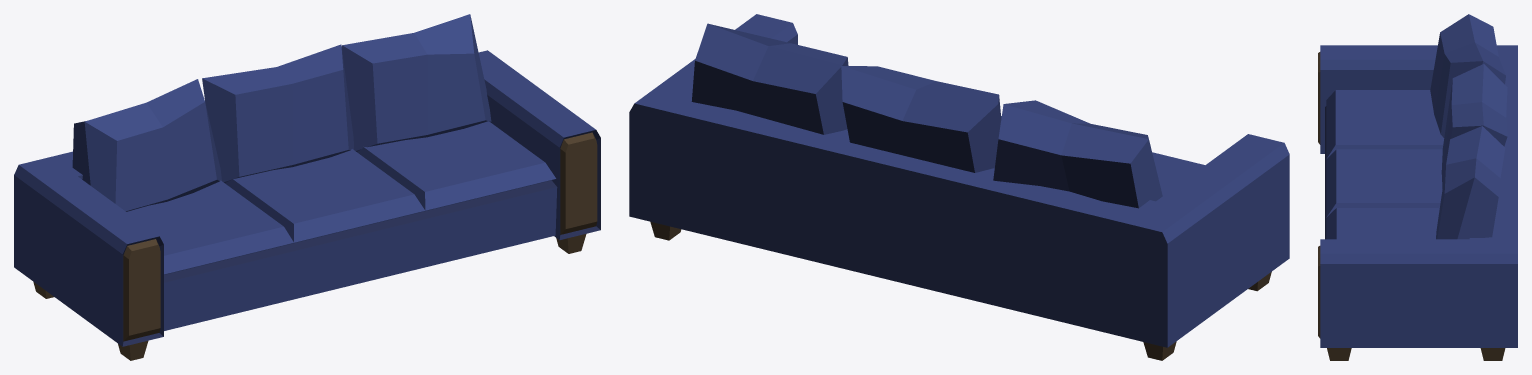
The model's file is Sofa2Blue.glb.
3 views of the same model, side by side, from view 1: azimuth 30°, elevation 25°; view 2: azimuth 150°, elevation 25°; view 3: azimuth 270°, elevation 25° (orthographic). The views are drawn at different scales.
Visible parts, largest first — view 1: Sofa2Blue; view 2: Sofa2Blue; view 3: Sofa2Blue.
Part boxes in pixels (x1,y1,x2,y2): Sofa2Blue: (14, 14, 600, 360); Sofa2Blue: (629, 14, 1289, 360); Sofa2Blue: (1318, 14, 1517, 360).
Bounding box in the file's own units: 3.4 × 1.27 × 1.35.
Materials: 1 (1 with a texture image).
